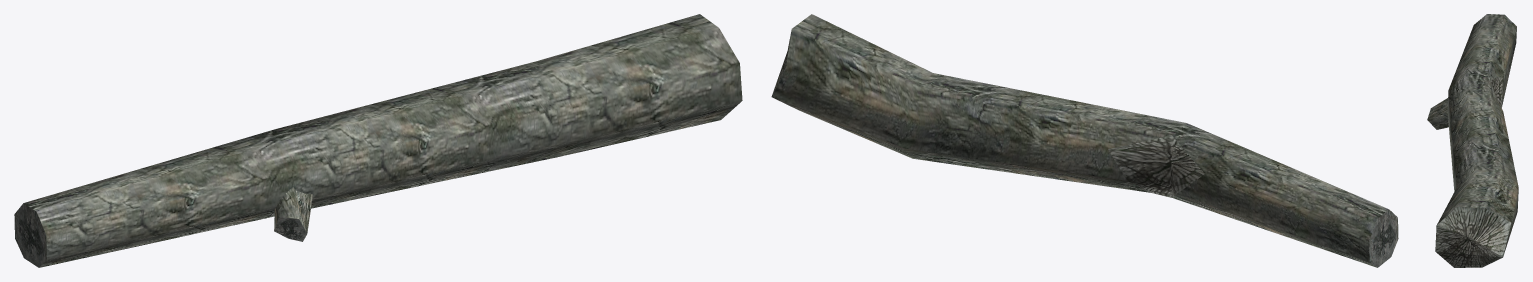
Rendered from mucai_famu_jx_03.fbx.
3 views of the same model, side by side, from view 1: azimuth 30°, elevation 25°; view 2: azimuth 150°, elevation 25°; view 3: azimuth 270°, elevation 25° (orthographic). The views are drawn at different scales.
Visible parts, largest first — view 1: mucai_famu_jx_03; view 2: mucai_famu_jx_03; view 3: mucai_famu_jx_03.
Boxes of the visible parts, left/top/right/bottom form: mucai_famu_jx_03: left=14, top=14, right=742, bottom=267; mucai_famu_jx_03: left=771, top=14, right=1398, bottom=267; mucai_famu_jx_03: left=1427, top=14, right=1518, bottom=267.
Size of what is drawn, in the model's own units: 825 by 120 by 142.
1 material, 1 textured.
